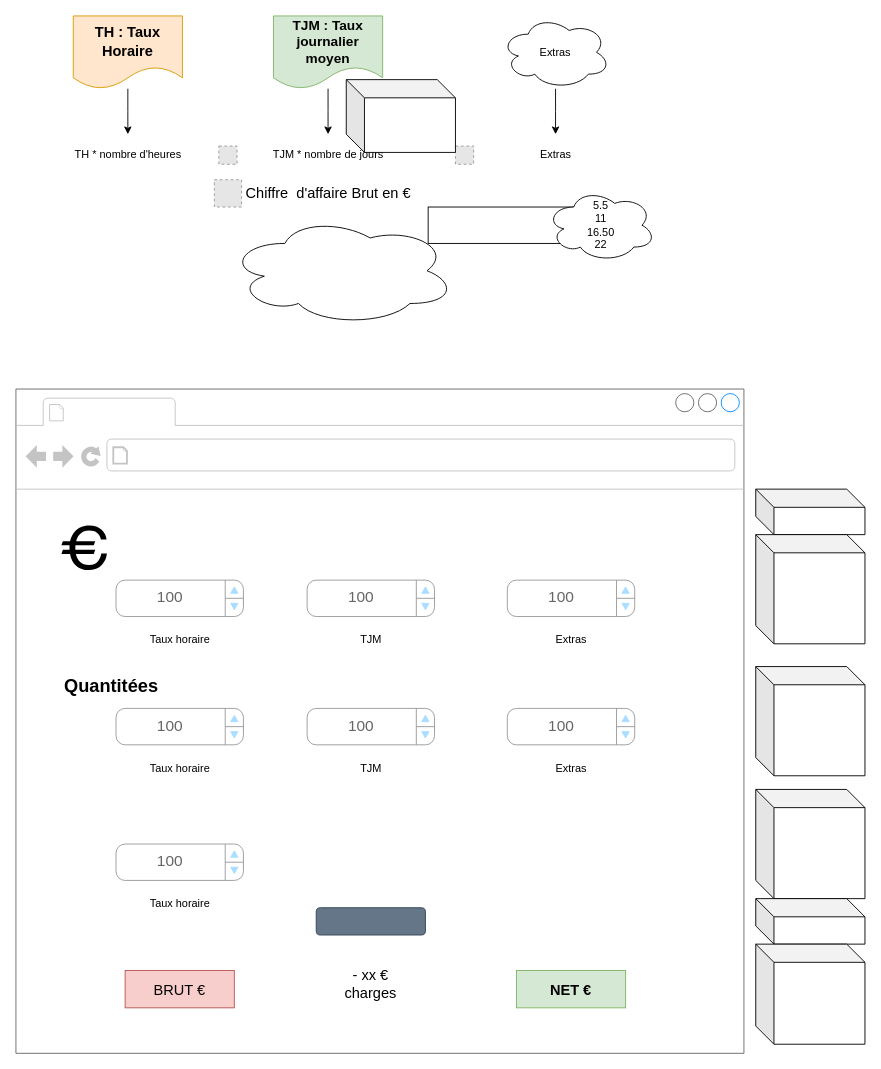
The diagram is 881 pixels wide and 1069 high, and some of its shapes have lost their labels. Grey dashed boxes stand in for pictures. The shapes that lost their labels are listed below. From the top down, each one's box as (x1, y1, x2, y2) in pixels, then its label:
(427, 206, 574, 243): Charges
(227, 215, 455, 325): CA - X% de charges
(70, 399, 171, 424): Page 1
(133, 443, 362, 467): https://www.draw.io
(315, 907, 425, 935): Calculer
